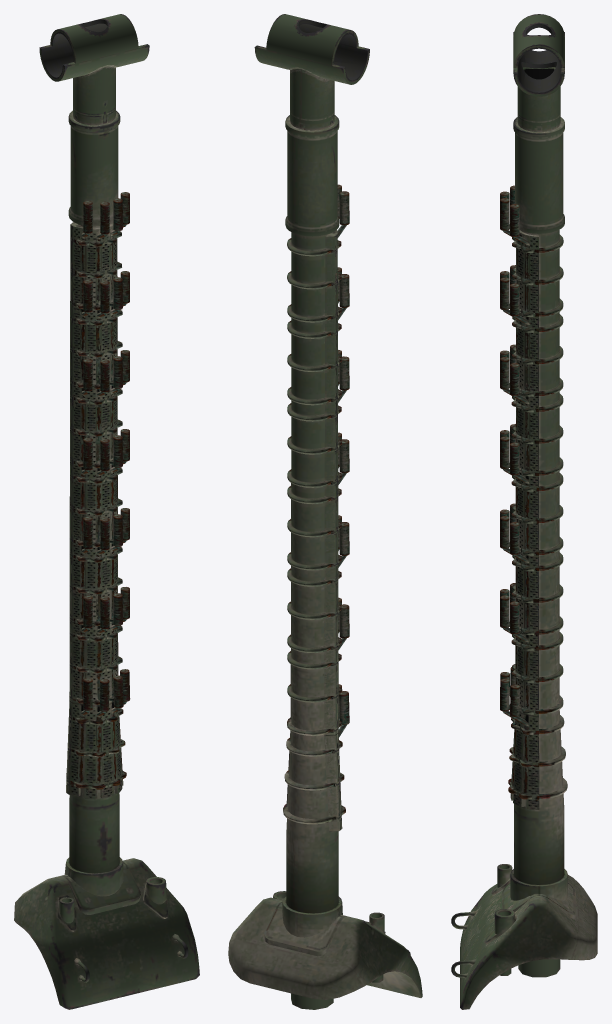
File: Gun_06.glb
The picture shows the model from 3 angles, left to right: view 1: azimuth 30°, elevation 25°; view 2: azimuth 150°, elevation 25°; view 3: azimuth 270°, elevation 25°; orthographic projection. The views are drawn at different scales.
Visible parts, largest first — view 1: set_0_group_0; view 2: set_0_group_0; view 3: set_0_group_0.
Part boxes in pixels (bbox=[...]): set_0_group_0: bbox=[14, 14, 199, 1009]; set_0_group_0: bbox=[228, 14, 422, 1009]; set_0_group_0: bbox=[451, 14, 597, 1009].
Size of the model in its own units: 0.9087 by 5.86 by 0.8199.
Materials: 1 (1 with a texture image).
